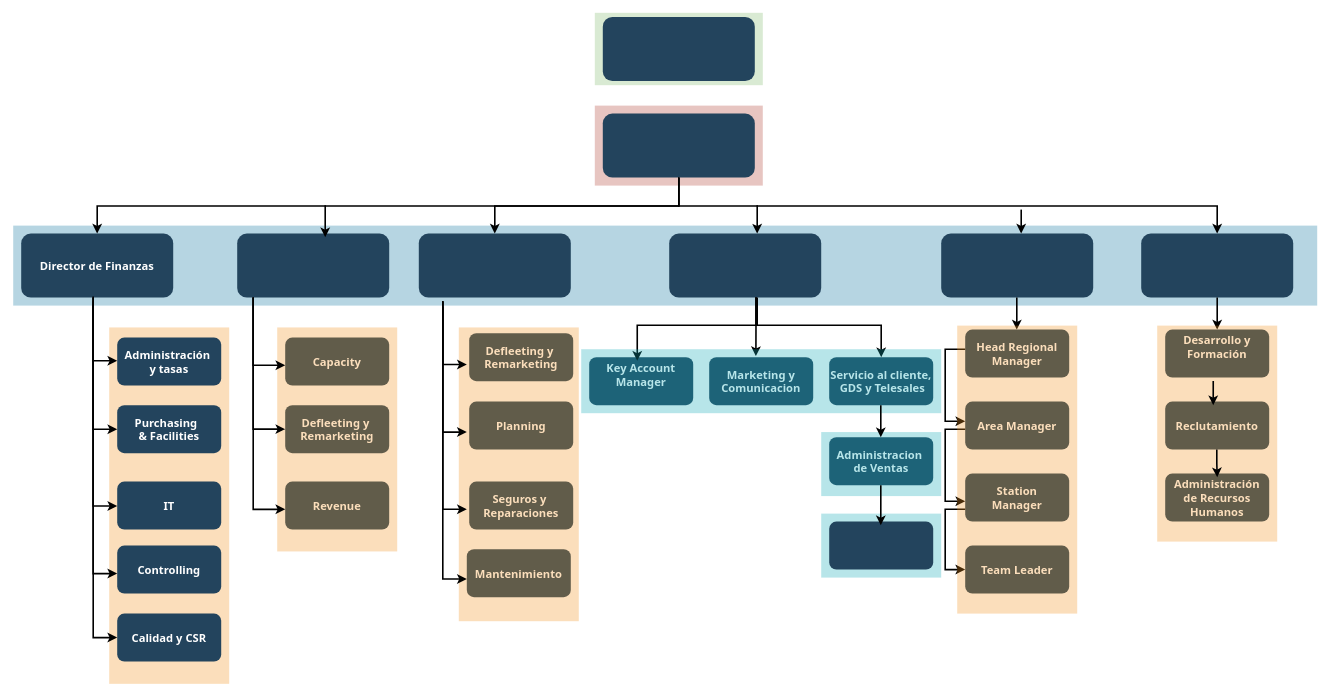
Image size: 1330x697. Some labels were removed from this diagram. The shapes that lost their labels are listed below. From the top down, each one's centre as x and y in pixels, then its label:
At point (678, 49): "Country Manager".
At point (678, 145): "Comité de dirección".
At point (313, 265): "RCM Director".
At point (494, 265): "Fleet Director".
At point (745, 265): "Director Comercial".
At point (1017, 265): "Director de Operaciones".
At point (1217, 265): "Director de Recursos Humanos".
At point (881, 545): "Call Center".
